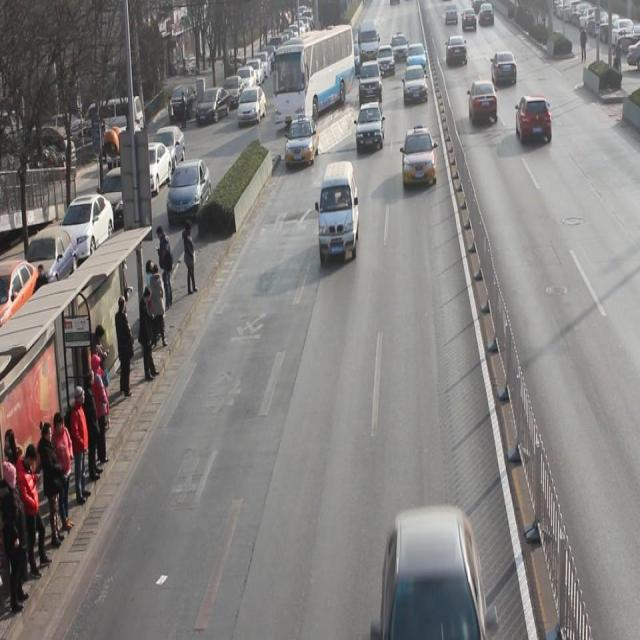car: (384, 507, 489, 640), (402, 128, 438, 186), (516, 95, 552, 146), (286, 116, 320, 166), (356, 102, 386, 150), (469, 80, 498, 124), (359, 61, 383, 106), (492, 52, 518, 90), (404, 65, 428, 106), (446, 36, 468, 68), (376, 44, 396, 79), (407, 44, 427, 76)
truck: (320, 162, 360, 264)
van: (272, 25, 354, 128)
